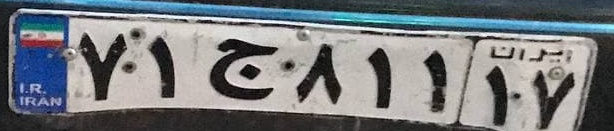character: (208, 29, 281, 104), (74, 25, 131, 106), (292, 41, 349, 104), (527, 66, 577, 131), (142, 27, 184, 104), (357, 41, 399, 116), (418, 38, 452, 118), (480, 61, 513, 127)
